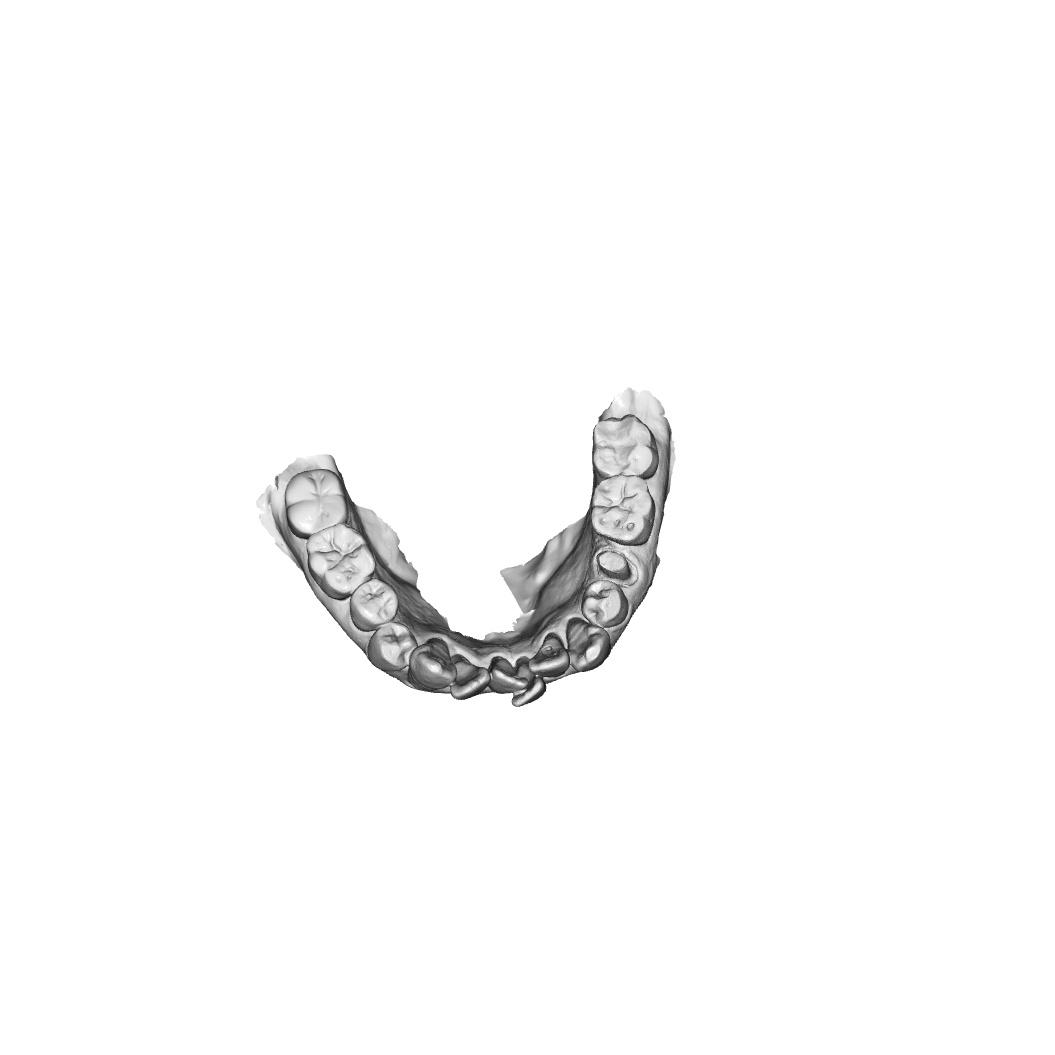canine: (407, 636, 458, 692), (566, 617, 612, 673)
crown: (594, 547, 639, 587)
incisor: (447, 652, 492, 701), (528, 631, 570, 678), (511, 656, 547, 708), (487, 655, 529, 695)
molar: (304, 521, 376, 601), (283, 467, 351, 541), (590, 475, 656, 548), (591, 413, 659, 477)
premolar: (366, 621, 419, 673), (349, 578, 399, 633), (580, 579, 630, 629)
